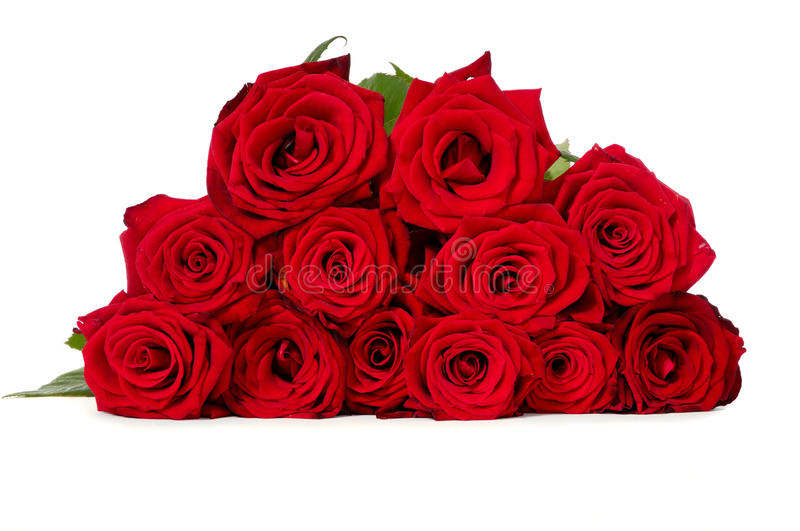RedRose: (217, 59, 401, 219), (388, 81, 550, 215), (253, 174, 417, 300), (116, 191, 280, 305), (566, 166, 703, 299), (434, 208, 598, 318), (227, 307, 347, 420), (107, 305, 229, 411), (628, 293, 738, 403), (426, 305, 530, 412), (531, 311, 626, 400), (369, 308, 422, 412)
